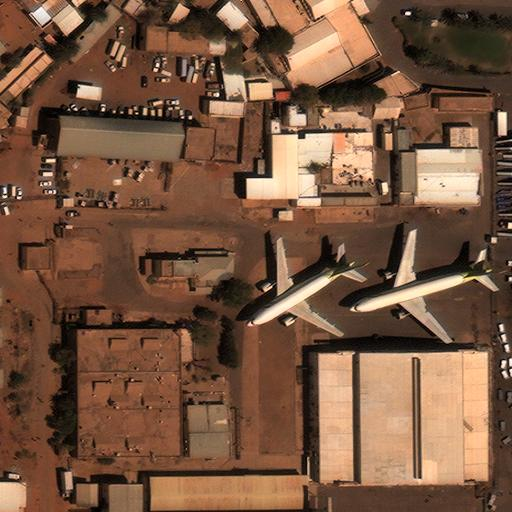Large Civil Transport: (348, 231, 505, 345), (246, 240, 370, 337)
